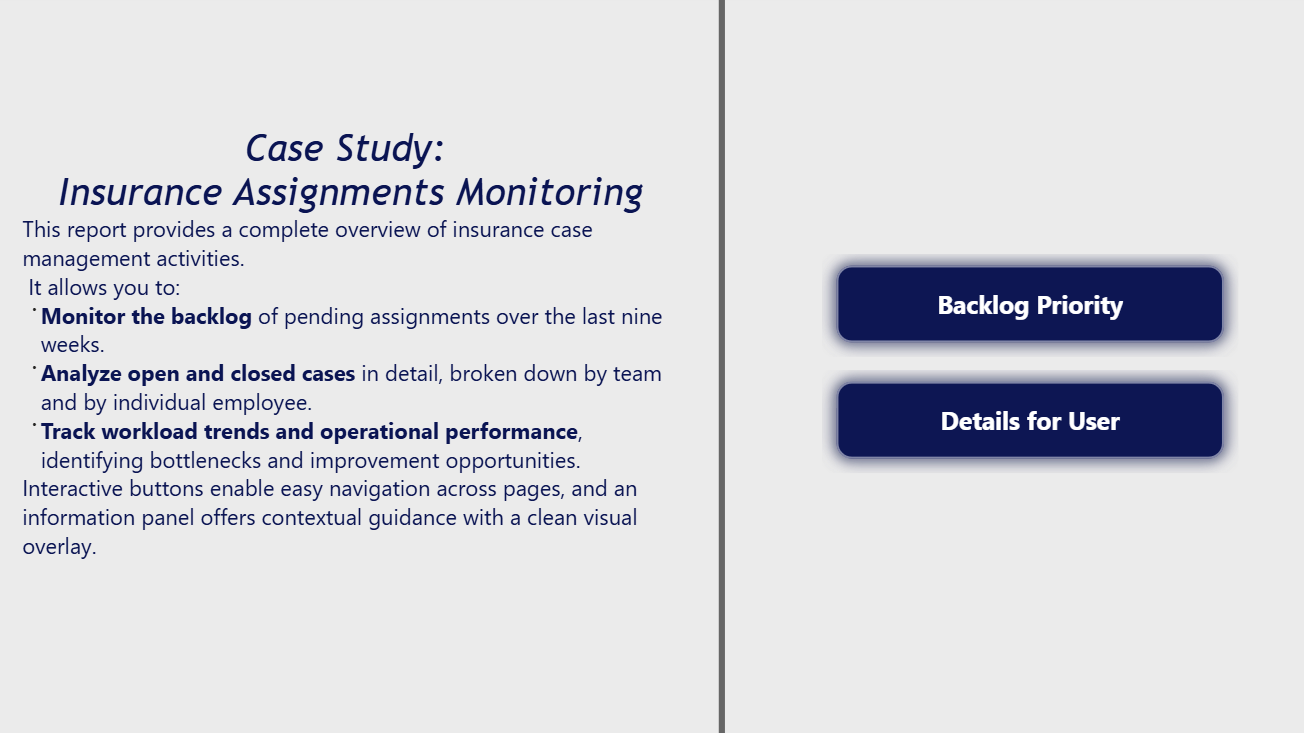

Layout of this report page (visuals, bound fields, positions):
{"tool":"powerbi","page":{"name":"Home","canvas":[1280,720],"ordinal":0},"visuals":[{"type":"textbox","box":[17.9,121.5,649.3,478],"z":0},{"type":"shape","box":[607.2,0,192.3,719.2],"z":1000},{"type":"pageNavigator","box":[800,249.1,405.8,217.7],"z":2000}]}

Visuals, with their boxes in screenshot pixels (x1, y1, x2, y2), scaled from the page's 1280x720 canvas onto the 1304x733 screenshot:
textbox: bbox=[18, 124, 680, 610]
shape: bbox=[619, 0, 814, 732]
pageNavigator: bbox=[815, 254, 1228, 475]
